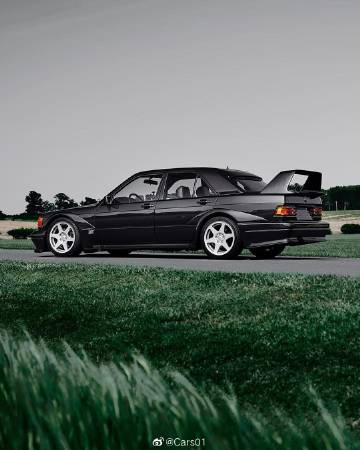other: (37, 160, 336, 265)
